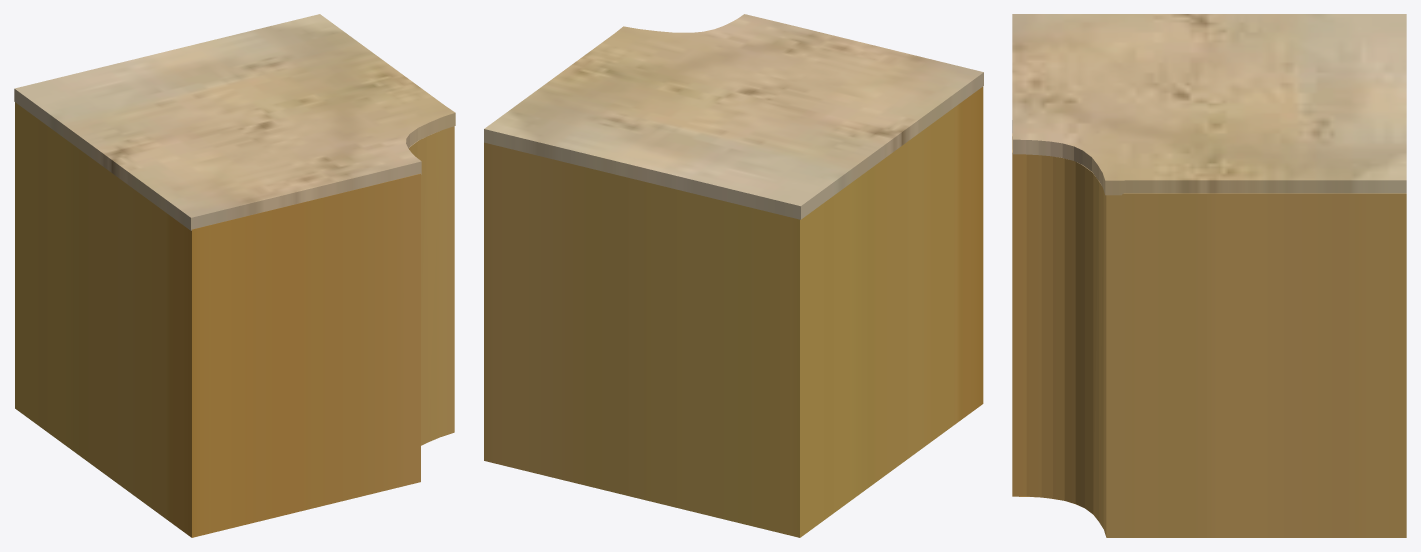
The model's file is sh-contrib-corner-cabinet.glb.
3 renders of one model, left to right at view 1: azimuth 30°, elevation 25°; view 2: azimuth 150°, elevation 25°; view 3: azimuth 270°, elevation 25°, orthographic. The views are drawn at different scales.
Visible parts, largest first — view 1: PolyMesh_1, PolyMesh_1_1; view 2: PolyMesh_1, PolyMesh_1_1; view 3: PolyMesh_1, PolyMesh_1_1.
Part boxes in pixels (x1,y1,x2,y2): PolyMesh_1: [15, 102, 454, 537]; PolyMesh_1_1: [14, 14, 455, 230]; PolyMesh_1: [484, 86, 983, 537]; PolyMesh_1_1: [484, 14, 983, 219]; PolyMesh_1: [1012, 133, 1406, 537]; PolyMesh_1_1: [1012, 14, 1406, 195].
Size of the model in its own units: 1 by 1 by 1.
Materials: 2 (2 with a texture image).
